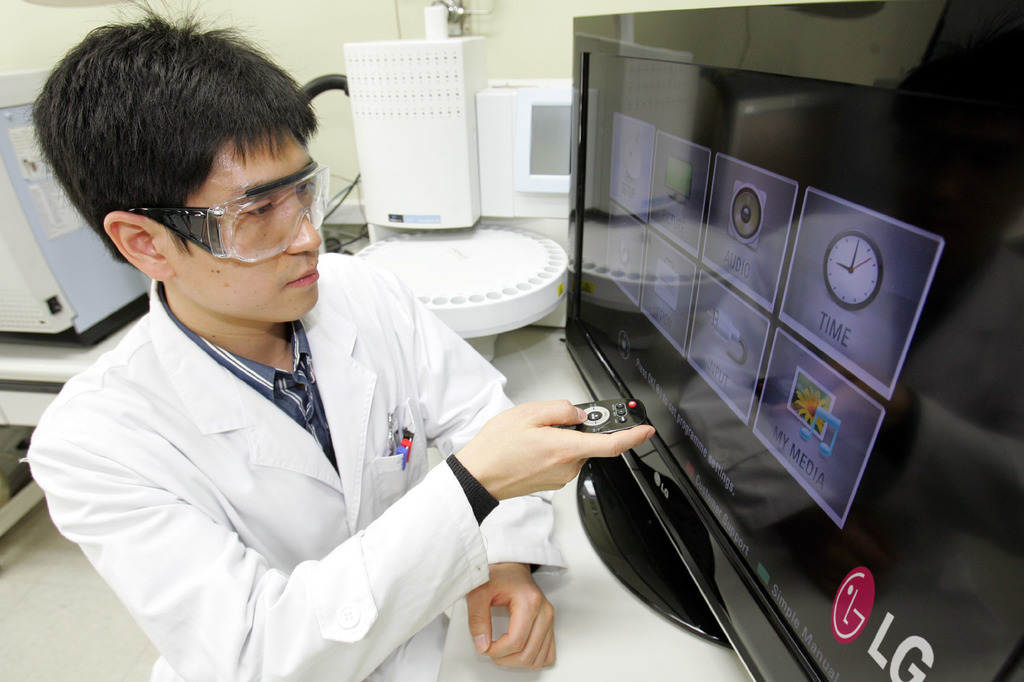Person: (17, 0, 657, 682)
